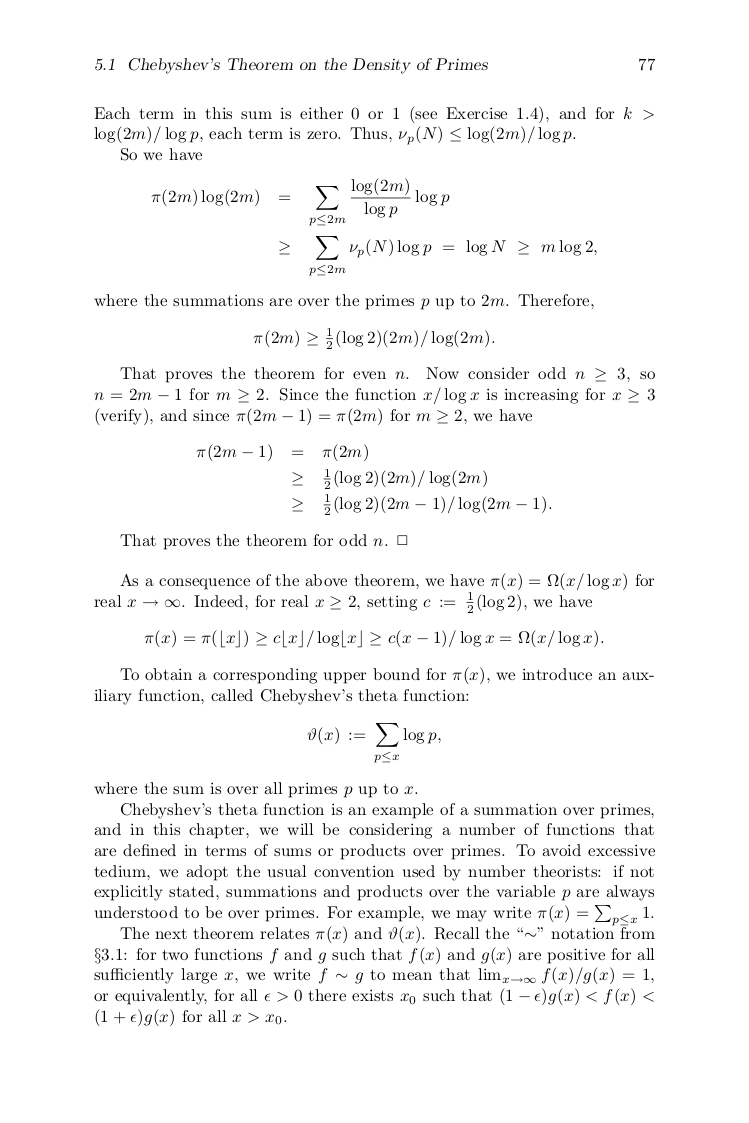formula: (151, 177, 449, 226), (279, 236, 596, 275), (144, 629, 603, 648), (292, 493, 551, 515), (307, 723, 440, 762), (292, 468, 486, 489), (196, 443, 367, 462)
